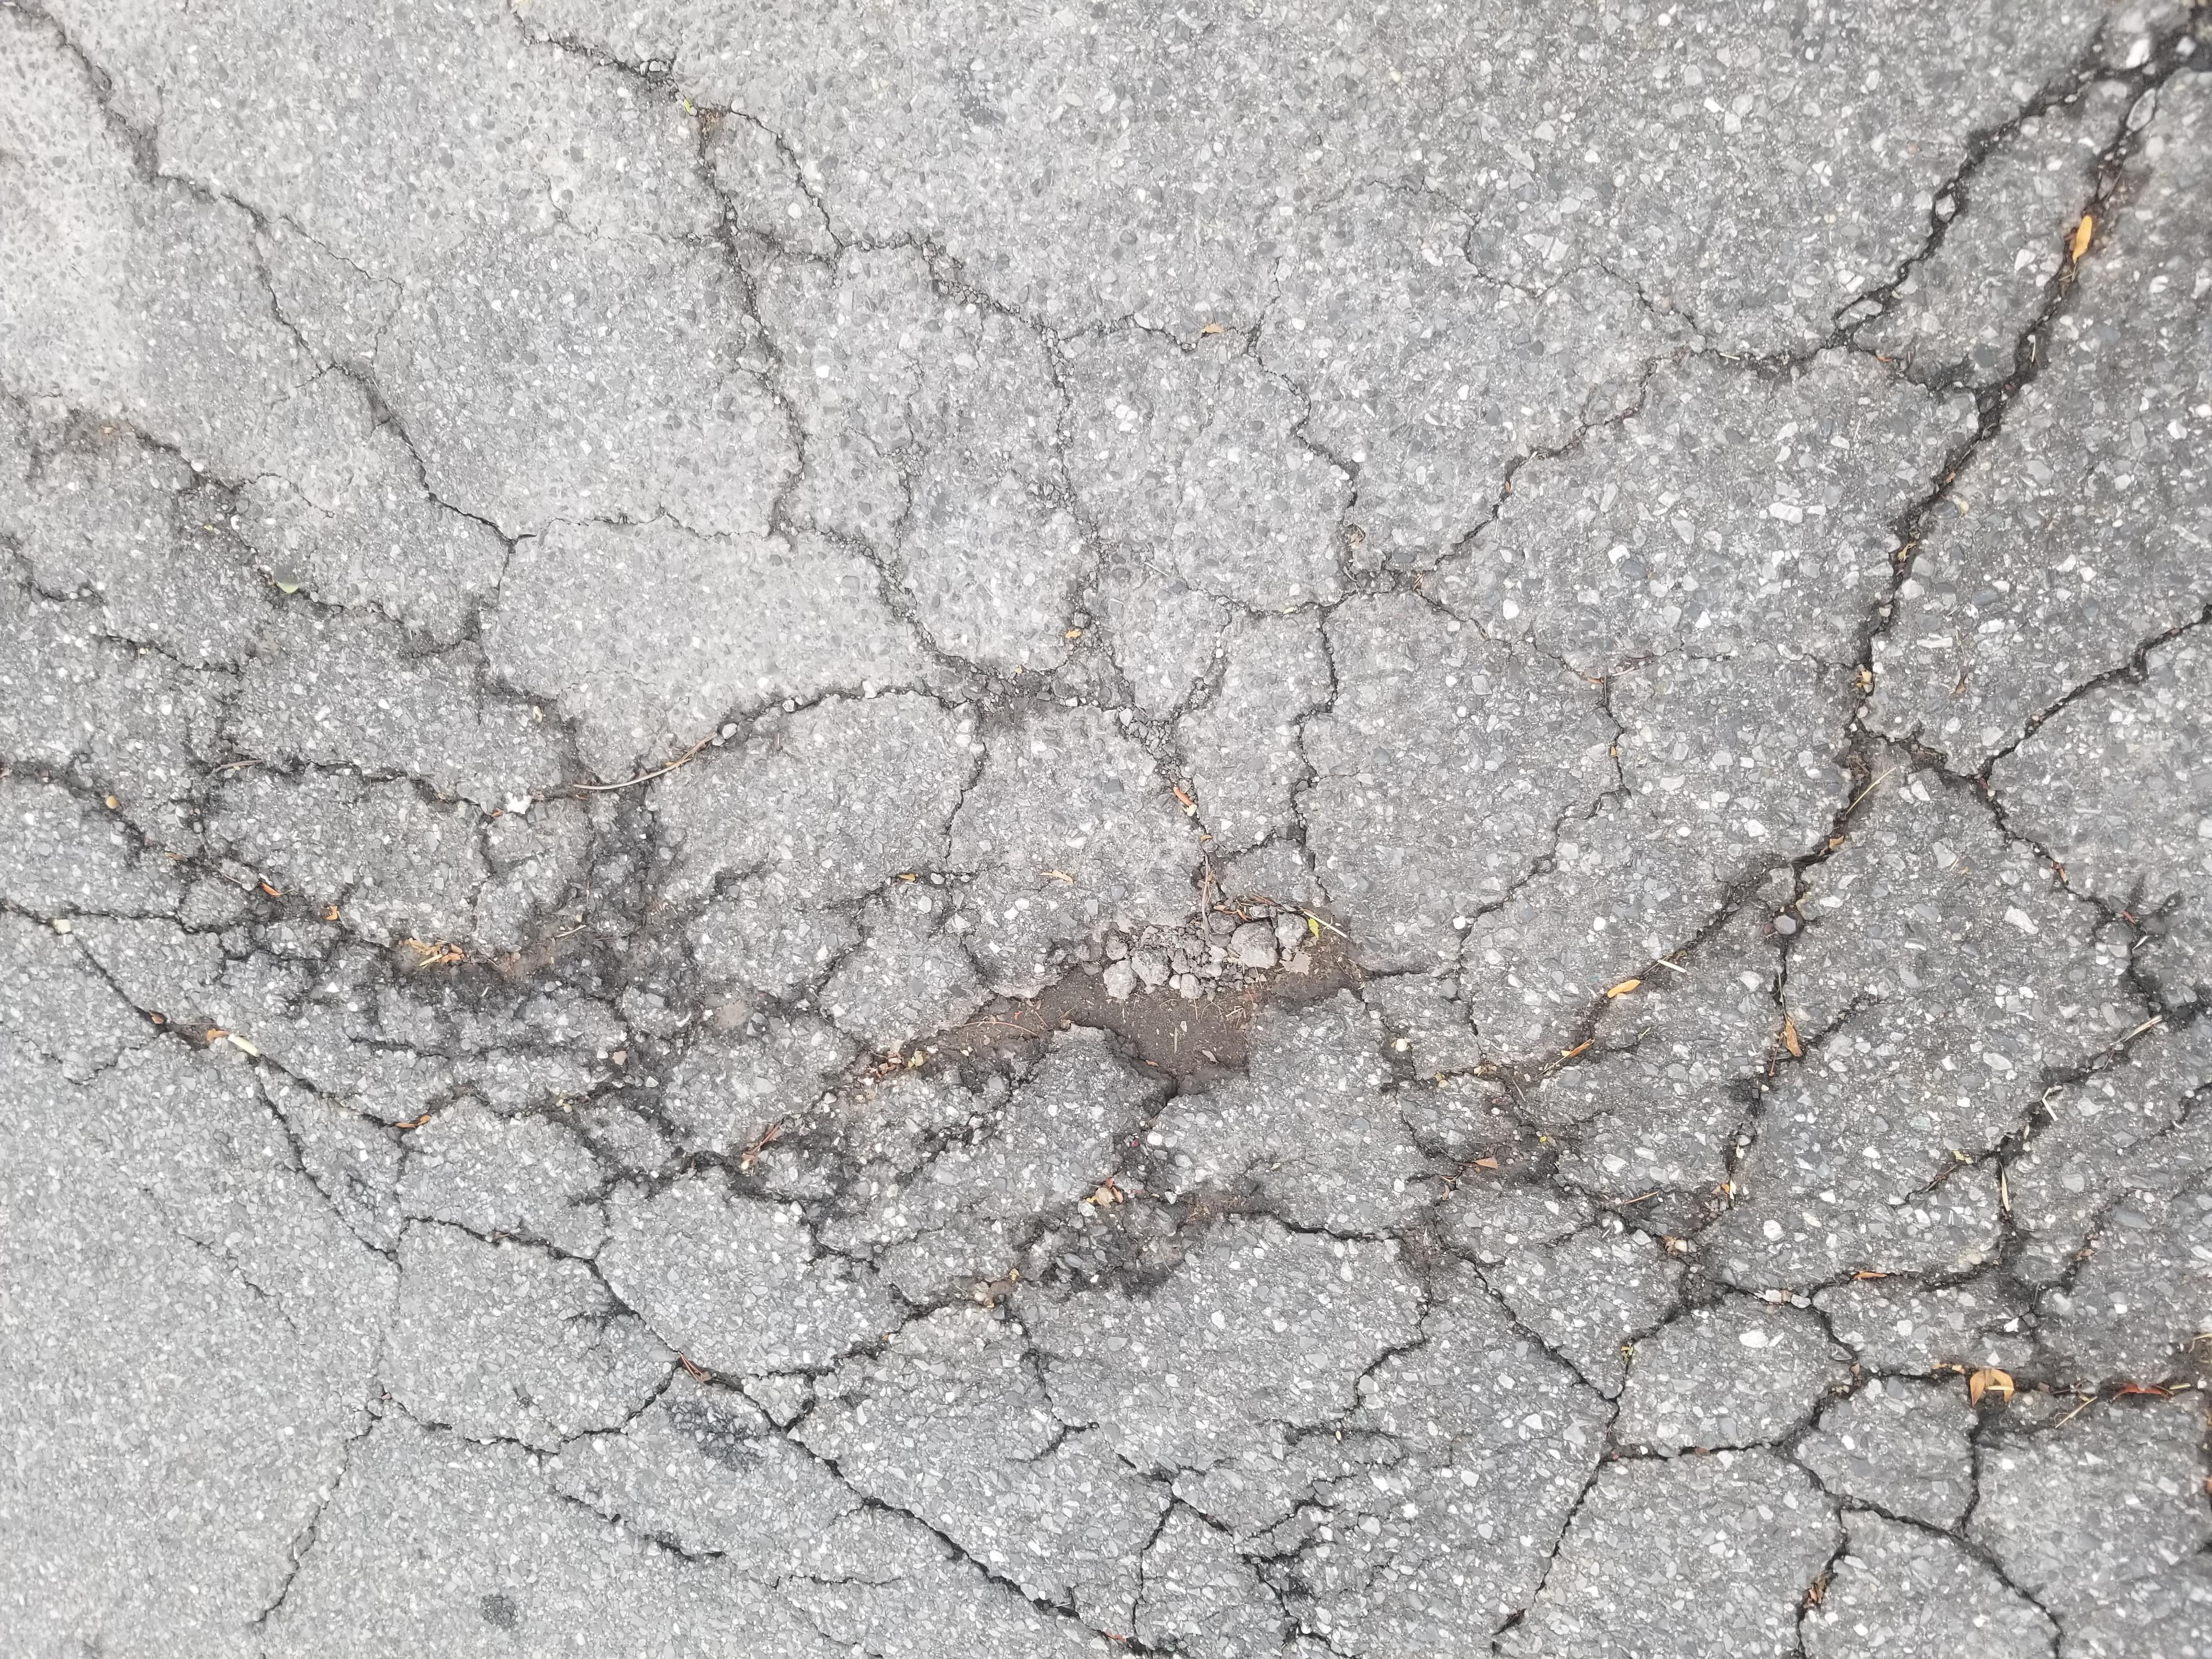alligator-crack: (7, 3, 2212, 1640)
